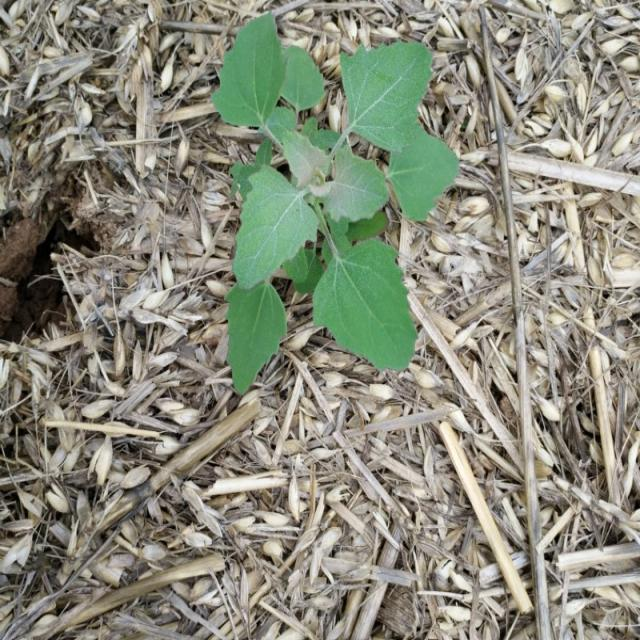goosefoots: (186, 35, 462, 411)
